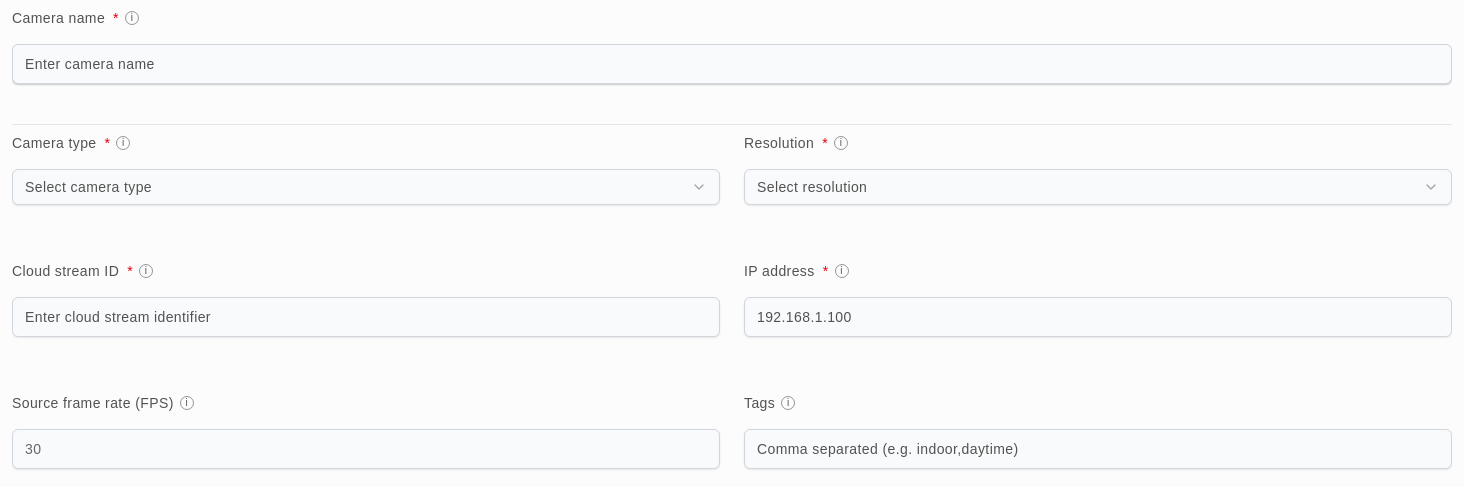
Camera Add - Comprehensive Test Suite › TC_ADD_005, TC_ADD_006 - Camera Type and Resolution Dropdown › should allow selecting valid camera type
Click the dropdown labelled "Select camera type".
click(89, 187)  # box [12,169,720,205]
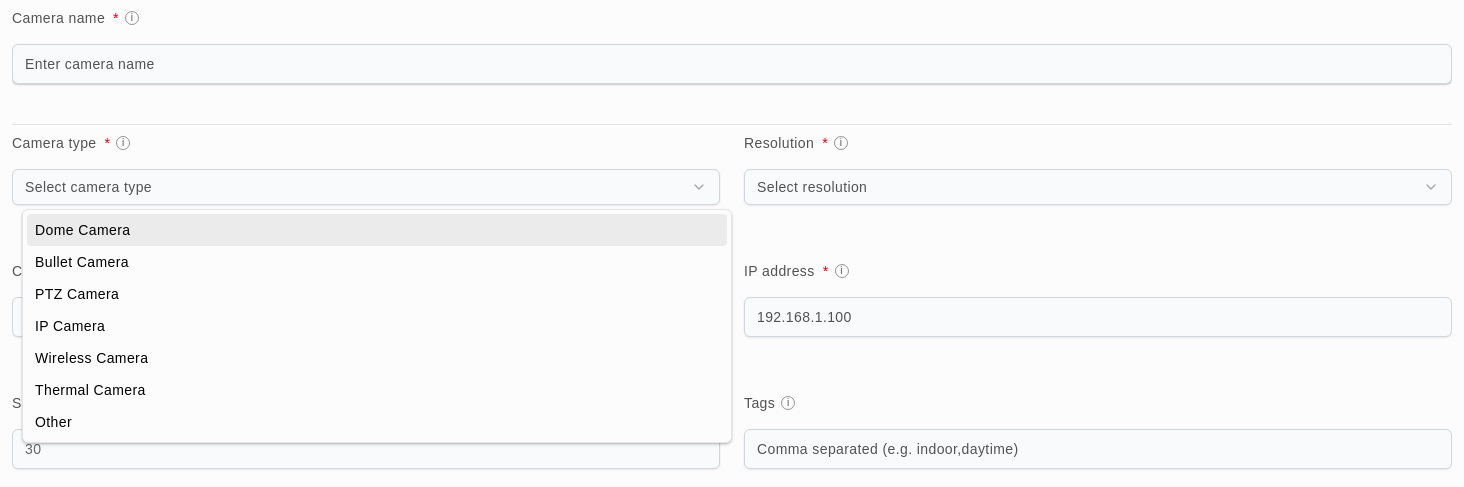
Click the option "Dome Camera".
click(83, 230)  # box [27,214,727,246]
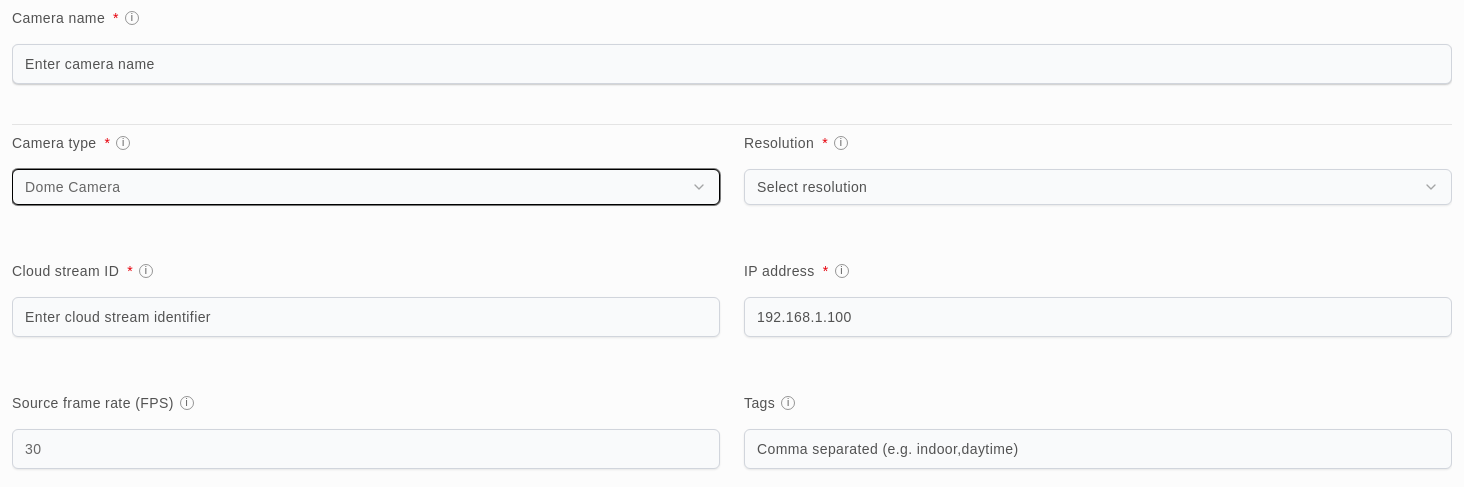
Expected: the dropdown labelled "Dome Camera" is shown, [12,169,720,205]
